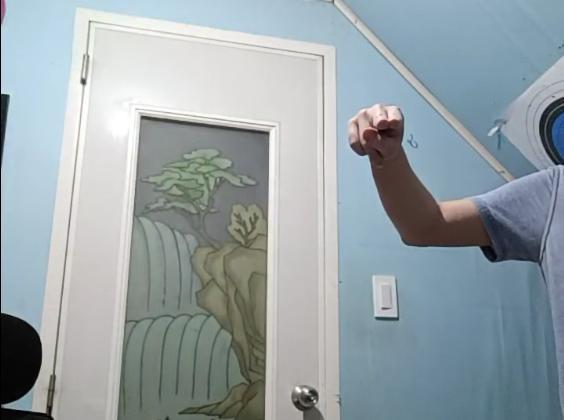n: (348, 104, 406, 166)
